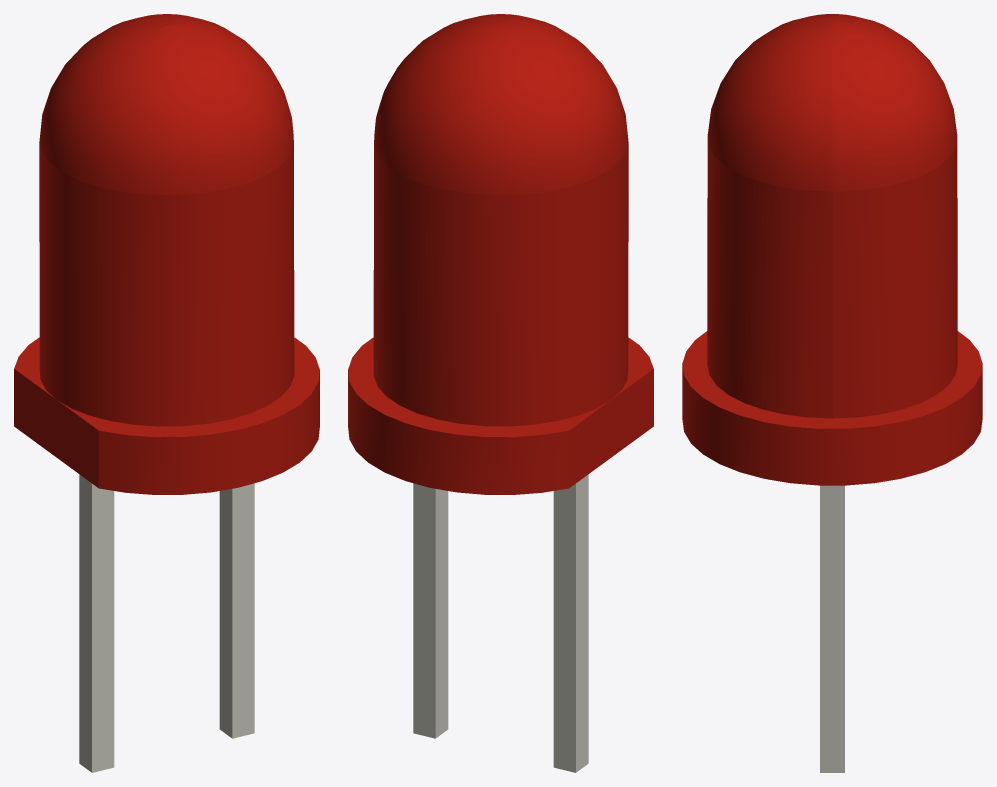
The model's file is kc-led_d4.0mm.glb.
3 views of the same model, side by side, from view 1: azimuth 30°, elevation 25°; view 2: azimuth 150°, elevation 25°; view 3: azimuth 270°, elevation 25° (orthographic).
Visible parts, largest first — view 1: 0.4166666666666667_0_0_0, 0.6666666666666666_0.6666666666666666_0.5833333333333334_0.8; view 2: 0.4166666666666667_0_0_0, 0.6666666666666666_0.6666666666666666_0.5833333333333334_0.8; view 3: 0.4166666666666667_0_0_0, 0.6666666666666666_0.6666666666666666_0.5833333333333334_0.8.
Boxes of the visible parts, x1=… form: 0.4166666666666667_0_0_0: x1=14, y1=14, x2=319, y2=494; 0.6666666666666666_0.6666666666666666_0.5833333333333334_0.8: x1=79, y1=474, x2=254, y2=772; 0.4166666666666667_0_0_0: x1=348, y1=14, x2=653, y2=494; 0.6666666666666666_0.6666666666666666_0.5833333333333334_0.8: x1=413, y1=474, x2=588, y2=772; 0.4166666666666667_0_0_0: x1=682, y1=14, x2=982, y2=485; 0.6666666666666666_0.6666666666666666_0.5833333333333334_0.8: x1=820, y1=485, x2=844, y2=772.
Bounding box in the file's own units: 0.4389 × 1.25 × 0.4797.
